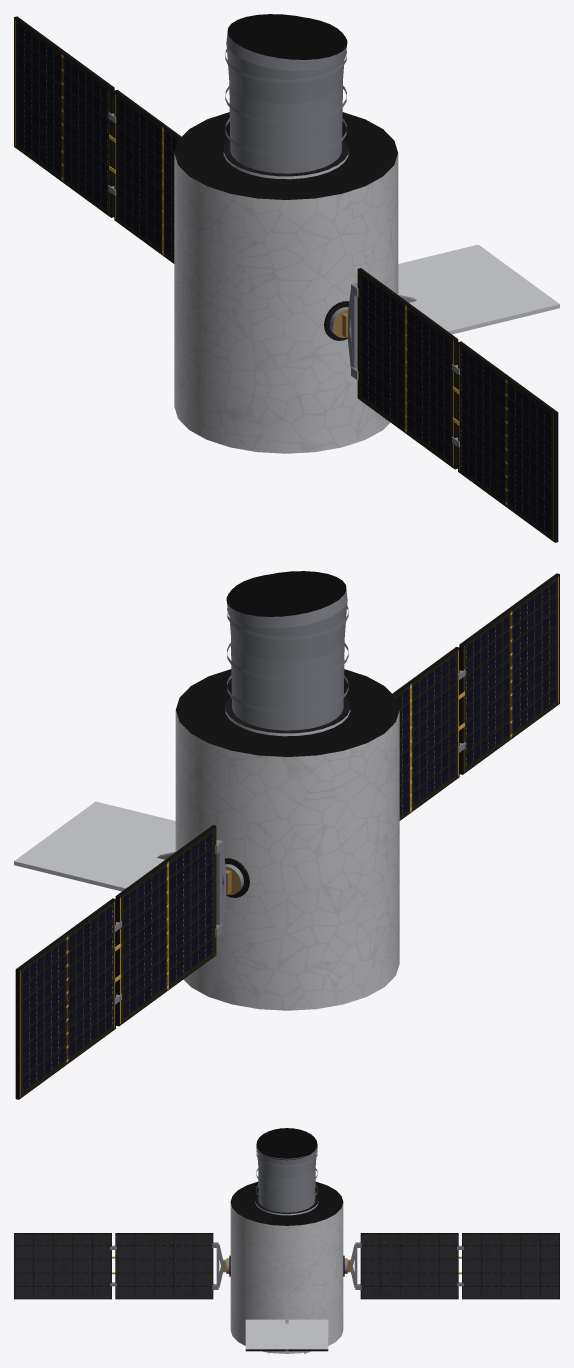
File: ikonos.glb
The picture shows the model from 3 angles, top to bottom: view 1: azimuth 30°, elevation 25°; view 2: azimuth 150°, elevation 25°; view 3: azimuth 270°, elevation 25°; orthographic projection. The views are drawn at different scales.
Visible parts, largest first — view 1: bus, wing-Y, wing+Y, sadm_-Y; view 2: bus, wing+Y, wing-Y, sadm_+Y; view 3: bus, wing+Y, wing-Y.
Part boxes in pixels (x1,y1,x2,y2): bus: (174, 14, 559, 453); wing-Y: (342, 268, 558, 542); wing+Y: (14, 16, 181, 263); sadm_-Y: (324, 301, 349, 340); bus: (14, 571, 399, 1010); wing+Y: (15, 825, 231, 1099); wing-Y: (392, 573, 559, 820); sadm_+Y: (224, 858, 249, 897); bus: (230, 1128, 343, 1353); wing+Y: (347, 1233, 559, 1299); wing-Y: (14, 1233, 226, 1299).
Bounding box in the file's own units: 2.45 × 2.87 × 6.96.
Materials: 14 (4 with a texture image).
